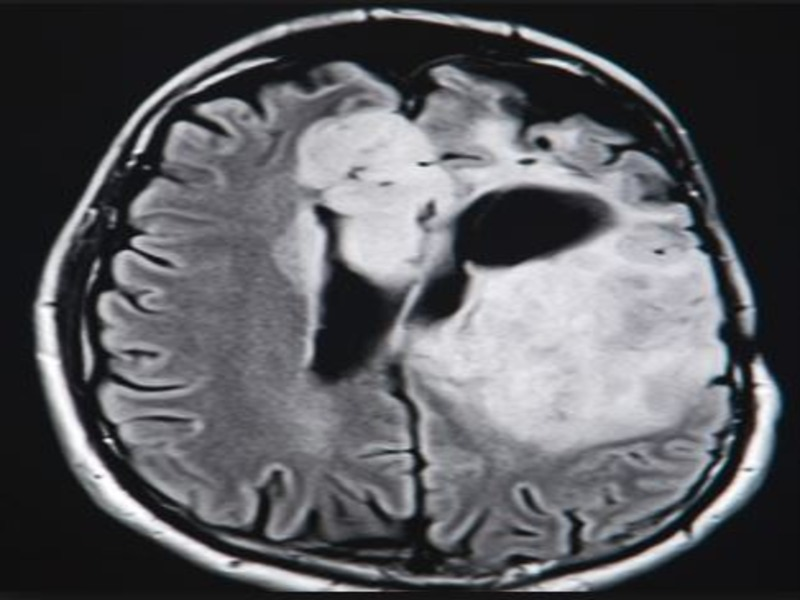tumor: (283, 104, 456, 278)
